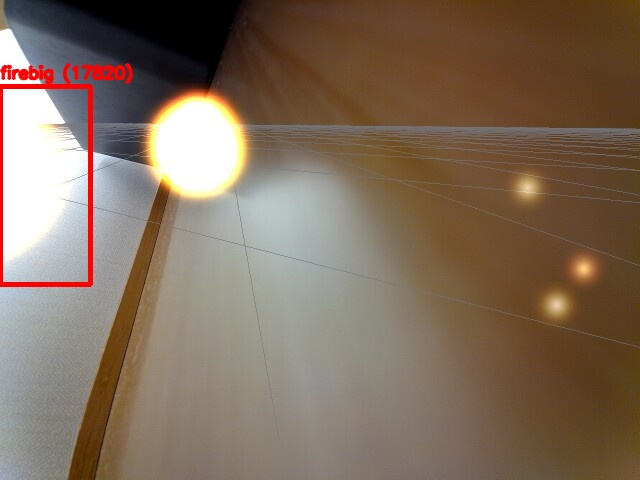firebig: (0, 86, 90, 284)
